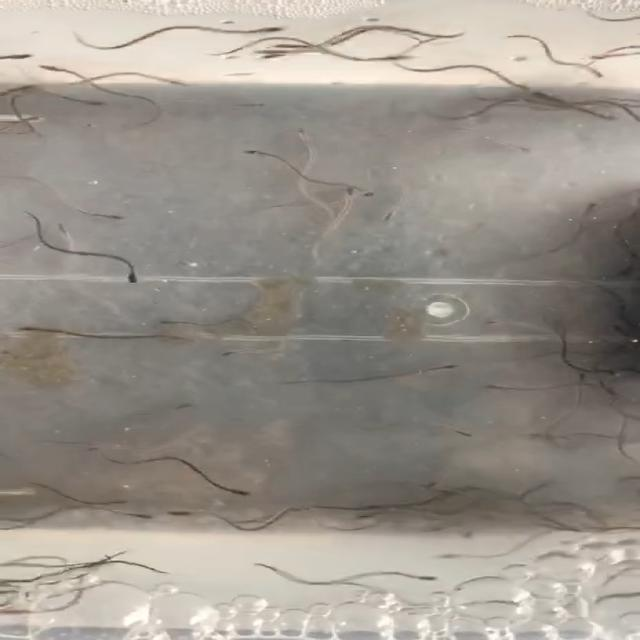active_glass_eel: (152, 75, 208, 88), (238, 23, 288, 37), (353, 506, 393, 523), (250, 50, 293, 64), (370, 207, 403, 224), (67, 96, 111, 108), (570, 65, 604, 80), (0, 49, 39, 62), (495, 142, 531, 156), (283, 128, 316, 143), (0, 82, 41, 94), (380, 51, 420, 63), (589, 48, 623, 62), (117, 268, 145, 285), (28, 61, 64, 74), (604, 323, 632, 339), (409, 570, 446, 582), (459, 526, 488, 541), (474, 380, 508, 392), (217, 486, 251, 498), (49, 218, 70, 237), (236, 100, 269, 112), (223, 347, 256, 359), (264, 40, 299, 51), (230, 147, 268, 157), (574, 200, 601, 214), (336, 186, 361, 201), (15, 113, 49, 124), (122, 512, 156, 523), (156, 507, 193, 517), (89, 211, 125, 221), (153, 318, 183, 330), (11, 324, 43, 335), (449, 428, 481, 439), (351, 190, 378, 203), (427, 364, 461, 374), (432, 552, 463, 562), (170, 401, 198, 412), (586, 112, 615, 122), (102, 497, 134, 506), (80, 445, 114, 453), (576, 373, 594, 388), (482, 317, 509, 326)
